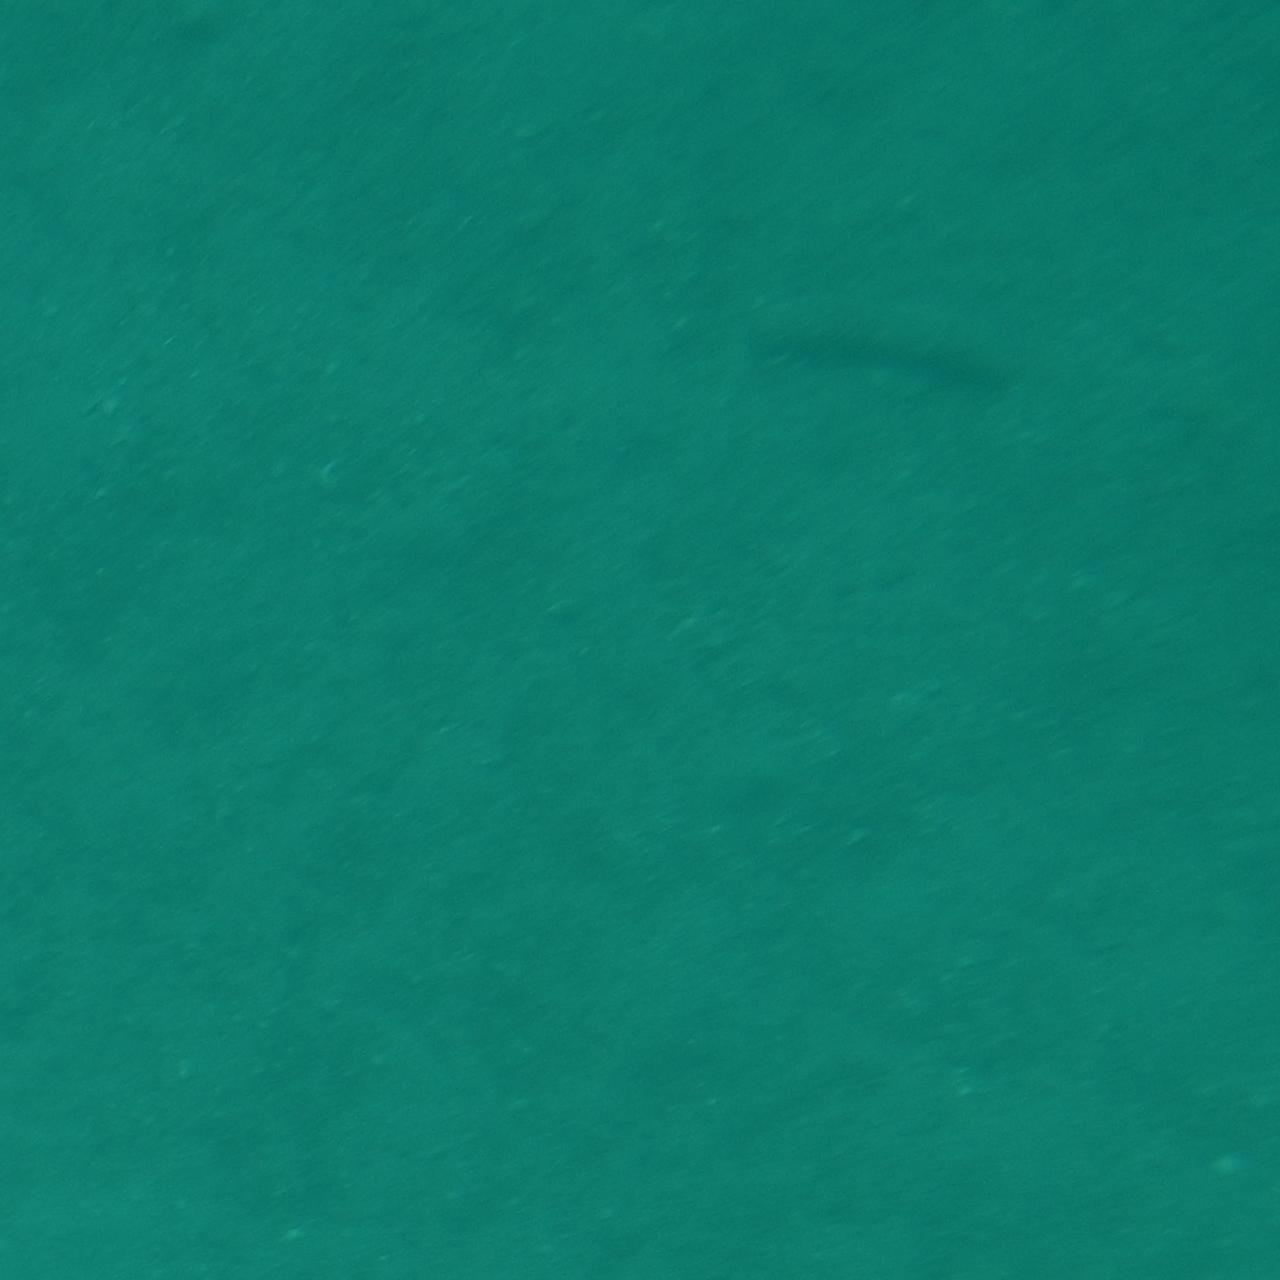Holothuria tubulosa: (731, 278, 1034, 433)
